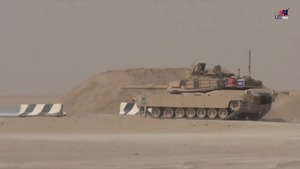abrams: (144, 72, 275, 121)
